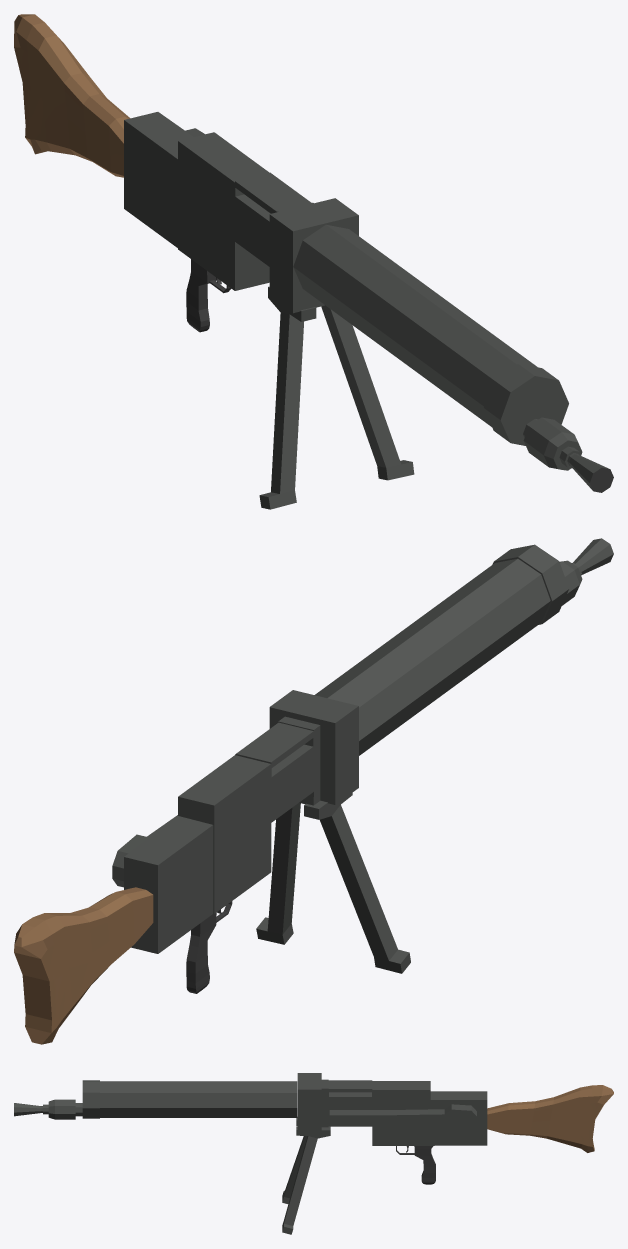
3 renders of one model, top to bottom at view 1: azimuth 30°, elevation 25°; view 2: azimuth 150°, elevation 25°; view 3: azimuth 270°, elevation 25°, orthographic. The views are drawn at different scales.
Visible parts, largest first — view 1: MG08; view 2: MG08; view 3: MG08.
Part boxes in pixels (x1=…): MG08: x1=14, y1=14, x2=613, y2=509; MG08: x1=14, y1=538, x2=613, y2=1044; MG08: x1=14, y1=1073, x2=613, y2=1234.
Bounding box in the file's own units: 0.2069 × 0.3608 × 1.45.
